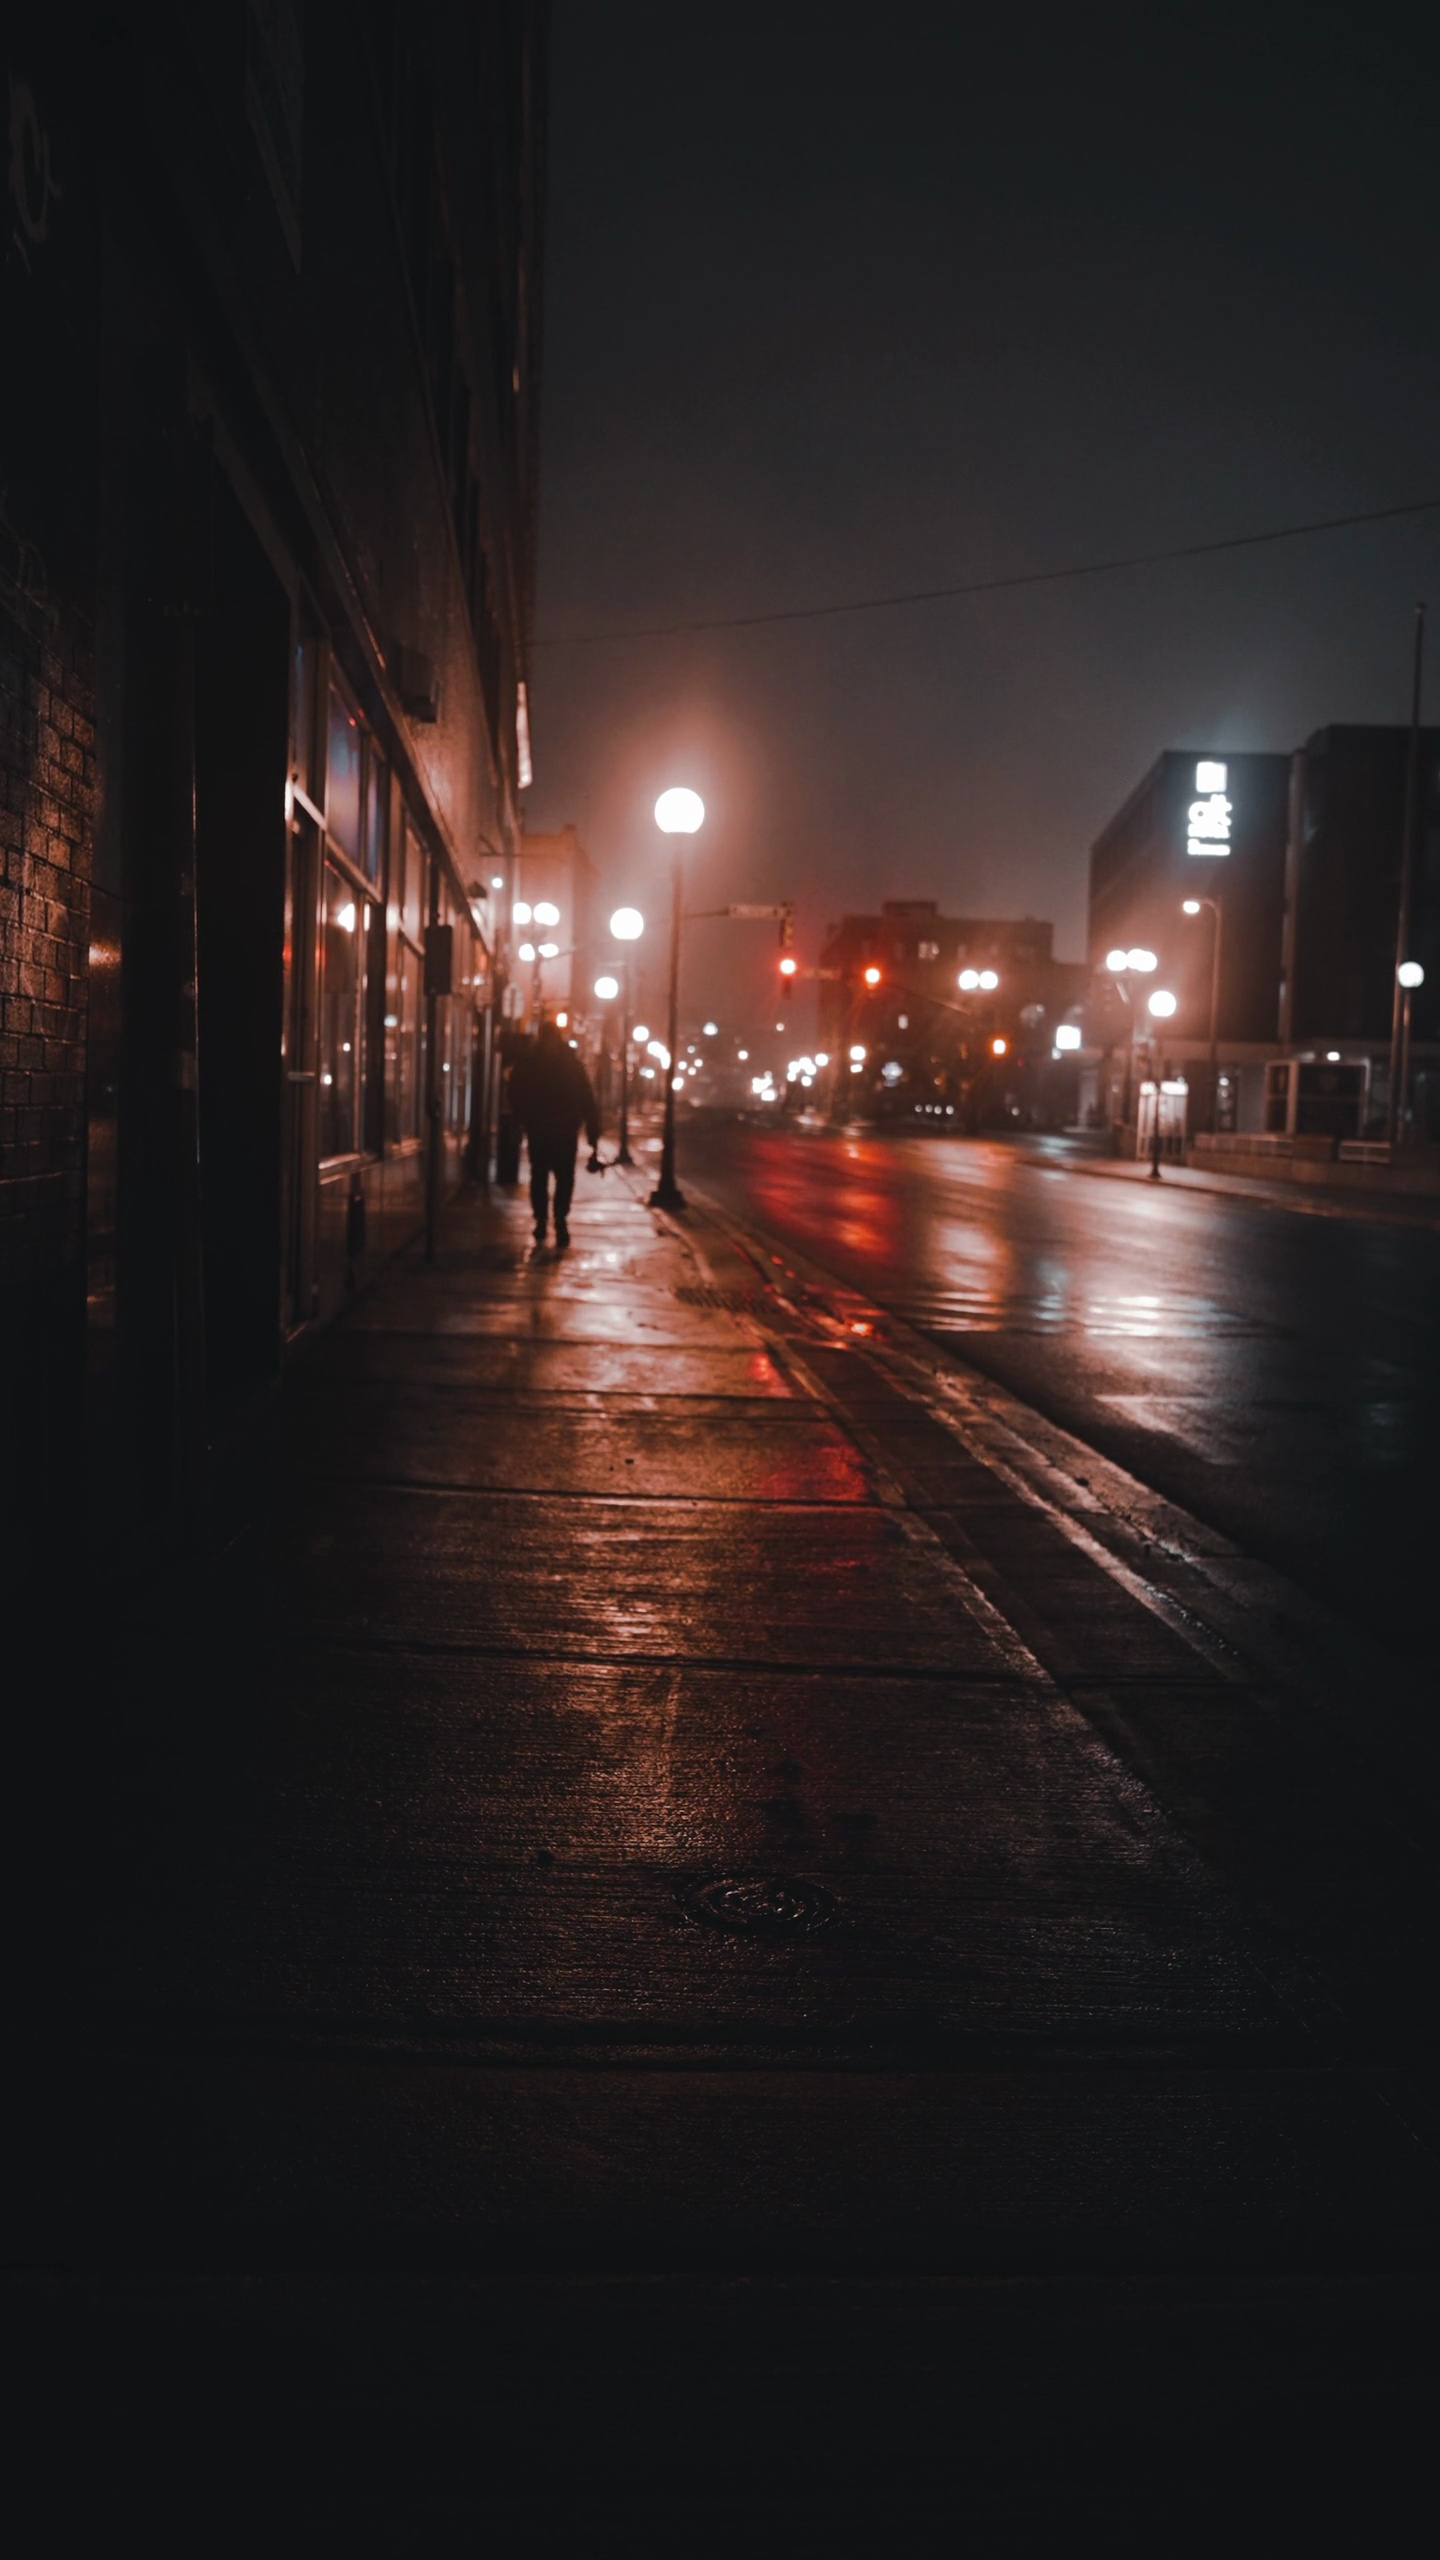person: (496, 1019, 618, 1259)
